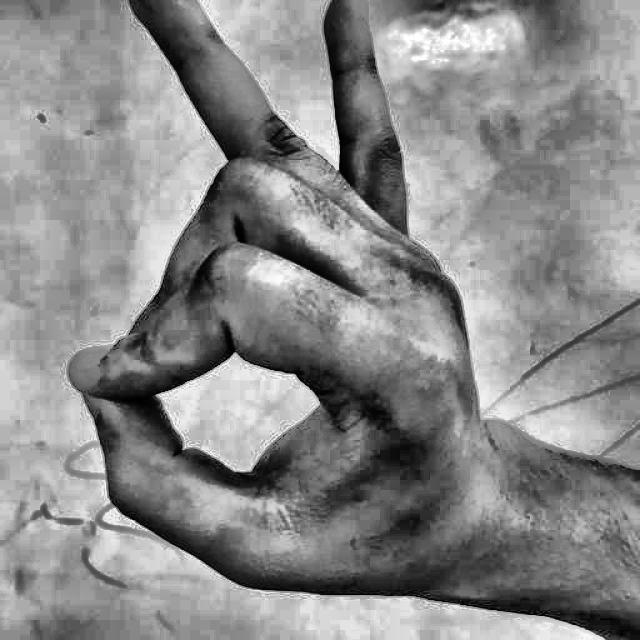Na: (39, 2, 487, 624)
